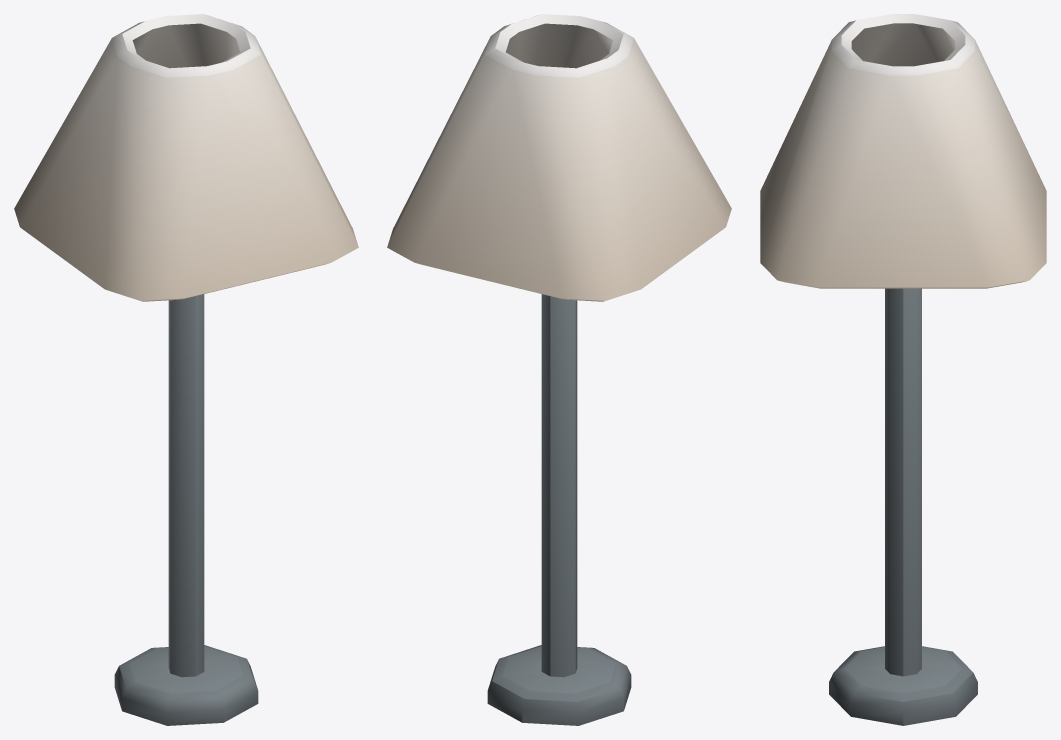
The model's file is lamp_standing.glb.
3 renders of one model, left to right at view 1: azimuth 30°, elevation 25°; view 2: azimuth 150°, elevation 25°; view 3: azimuth 270°, elevation 25°, orthographic.
Parts seen in each view (by area): view 1: lamp_standing; view 2: lamp_standing; view 3: lamp_standing.
Boxes of the visible parts, x1=… form: lamp_standing: x1=14, y1=14, x2=358, y2=725; lamp_standing: x1=387, y1=14, x2=731, y2=725; lamp_standing: x1=760, y1=14, x2=1046, y2=725.
Bounding box in the file's own units: 1 × 2.52 × 1.
Materials: 1 (1 with a texture image).
